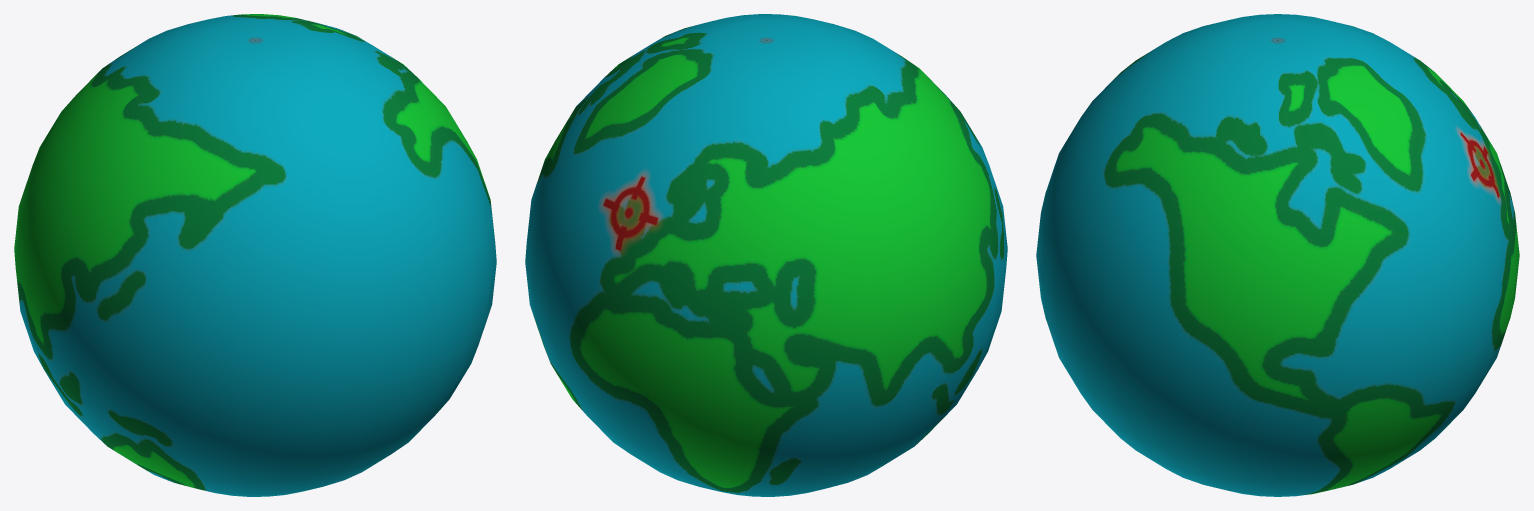
Rendered from earth.dae.
The picture shows the model from 3 angles, left to right: view 1: azimuth 30°, elevation 25°; view 2: azimuth 150°, elevation 25°; view 3: azimuth 270°, elevation 25°; orthographic projection.
Parts seen in each view (by area): view 1: Sphere; view 2: Sphere; view 3: Sphere.
Boxes of the visible parts, <box> form: Sphere: <box>14,14,496,496</box>; Sphere: <box>525,14,1007,496</box>; Sphere: <box>1036,14,1519,496</box>.
Size of the model in its own units: 2 by 2 by 1.96.
Materials: 1 (1 with a texture image).
